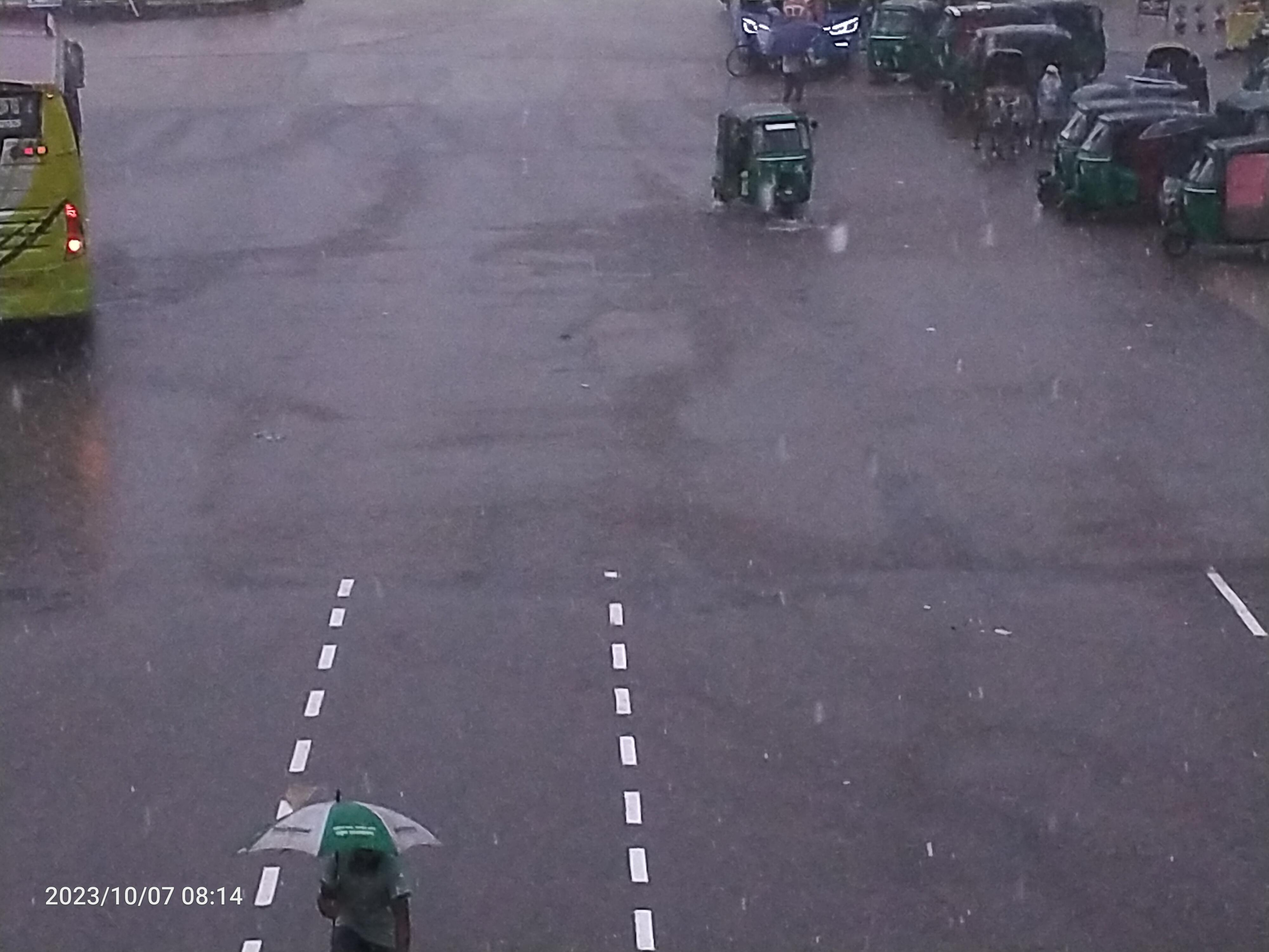Bus: (0, 0, 148, 374)
